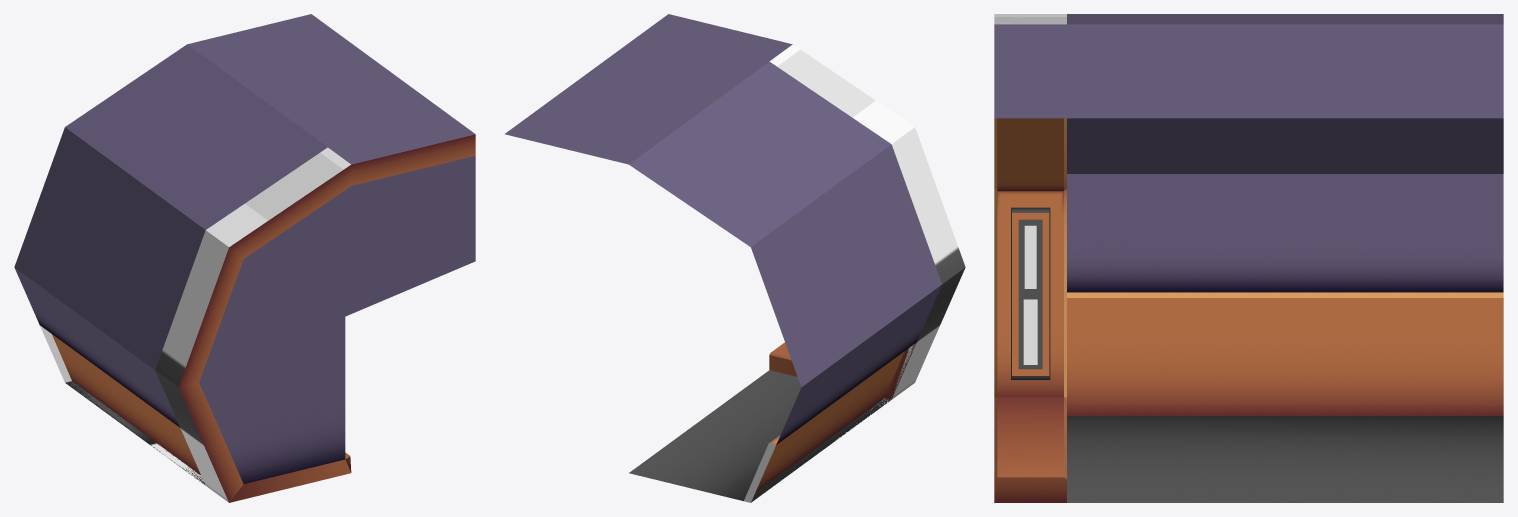
File: Corridor_start_piece.glb
3 views of the same model, side by side, from view 1: azimuth 30°, elevation 25°; view 2: azimuth 150°, elevation 25°; view 3: azimuth 270°, elevation 25° (orthographic). The views are drawn at different scales.
Visible parts, largest first — view 1: Corridor_start_piece; view 2: Corridor_start_piece; view 3: Corridor_start_piece.
Part boxes in pixels (bbox=[...]): Corridor_start_piece: bbox=[14, 14, 475, 502]; Corridor_start_piece: bbox=[504, 14, 965, 502]; Corridor_start_piece: bbox=[994, 14, 1503, 502].
Size of the model in its own units: 3.14 by 3.11 by 3.
Materials: 1 (1 with a texture image).
